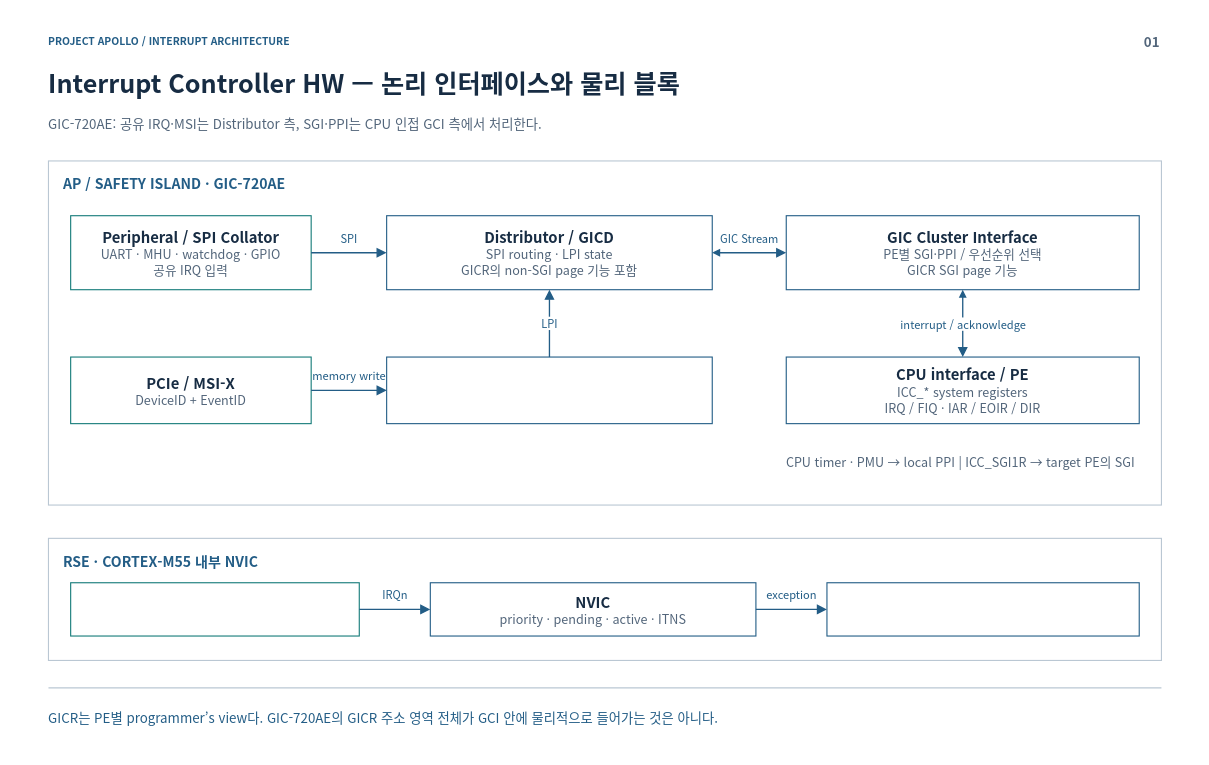
Image size: 1209x765. Some labels were removed from this diagram. The box of each missing label's shape, as (x1, y1, x2, y2) in pixels:
ITS GITS_TRANSLATER message → LPI / target PE: (386, 356, 712, 424)
M55 exception entry vector fetch / stacking / EXC_RETURN: (826, 582, 1139, 636)
SSE timer · GPIO · MHU external IRQn: (70, 582, 359, 636)
